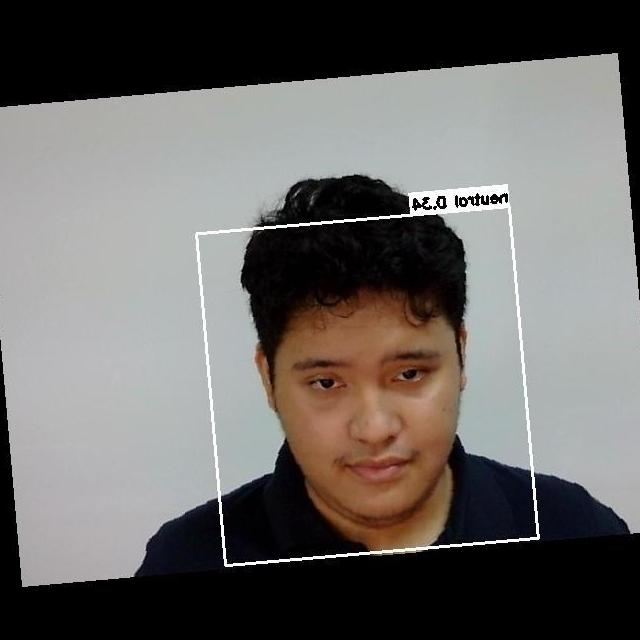Sad: (279, 326, 451, 499)
